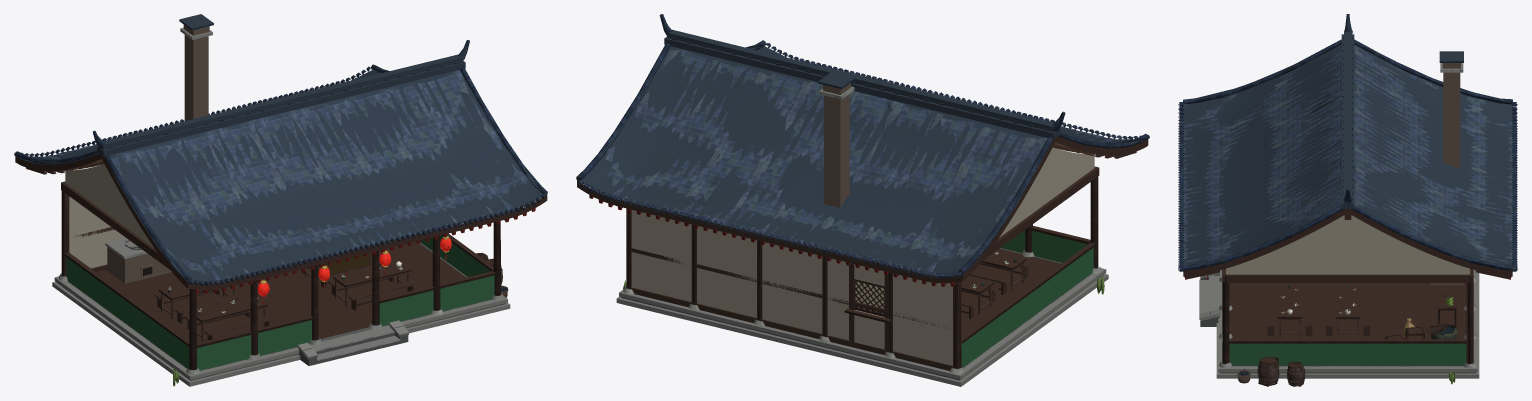
Rendered from prop_eatery.gltf.
3 renders of one model, left to right at view 1: azimuth 30°, elevation 25°; view 2: azimuth 150°, elevation 25°; view 3: azimuth 270°, elevation 25°, orthographic. The views are drawn at different scales.
Parts seen in each view (by area): view 1: Far, Near; view 2: Far, Near; view 3: Far, Near.
Part boxes in pixels (<box>): Far: <box>15,14,547,386</box>; Near: <box>14,19,547,386</box>; Far: <box>576,14,1148,386</box>; Near: <box>576,14,1149,373</box>; Far: <box>1179,14,1512,386</box>; Near: <box>1178,14,1517,386</box>.
Bounding box in the file's own units: 13.63 × 8.65 × 11.12.
33 materials, 18 textured.
